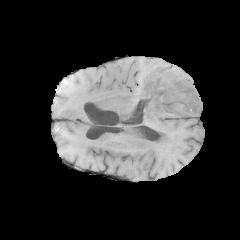glioma: (137, 69, 202, 120)
